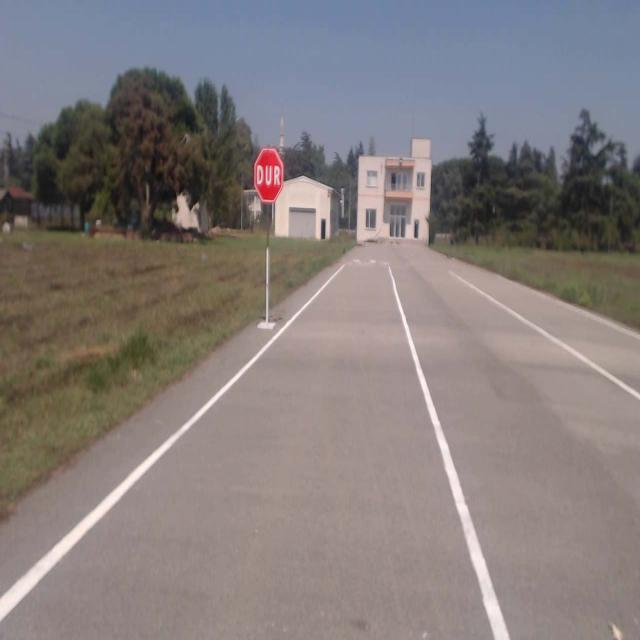dur: (253, 148, 282, 202)
